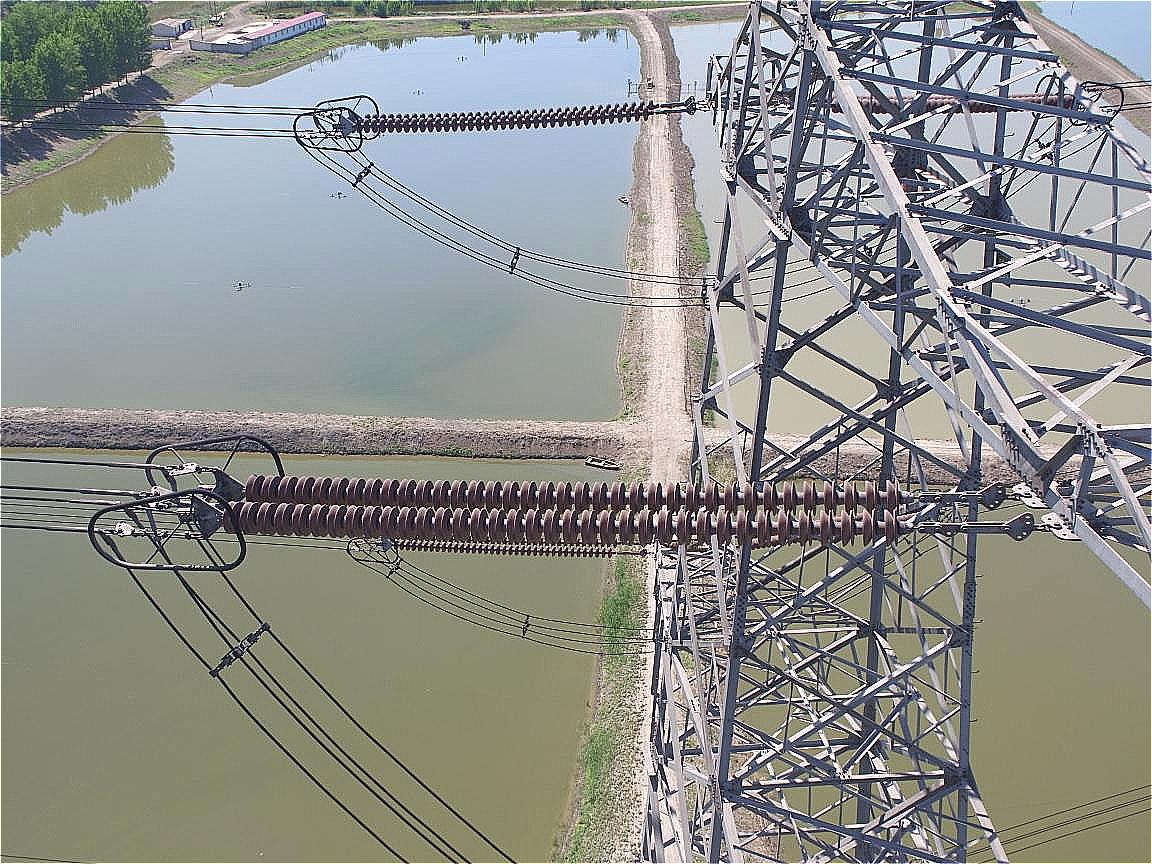insultor1: (349, 101, 666, 137)
insultor2: (204, 454, 922, 557)
